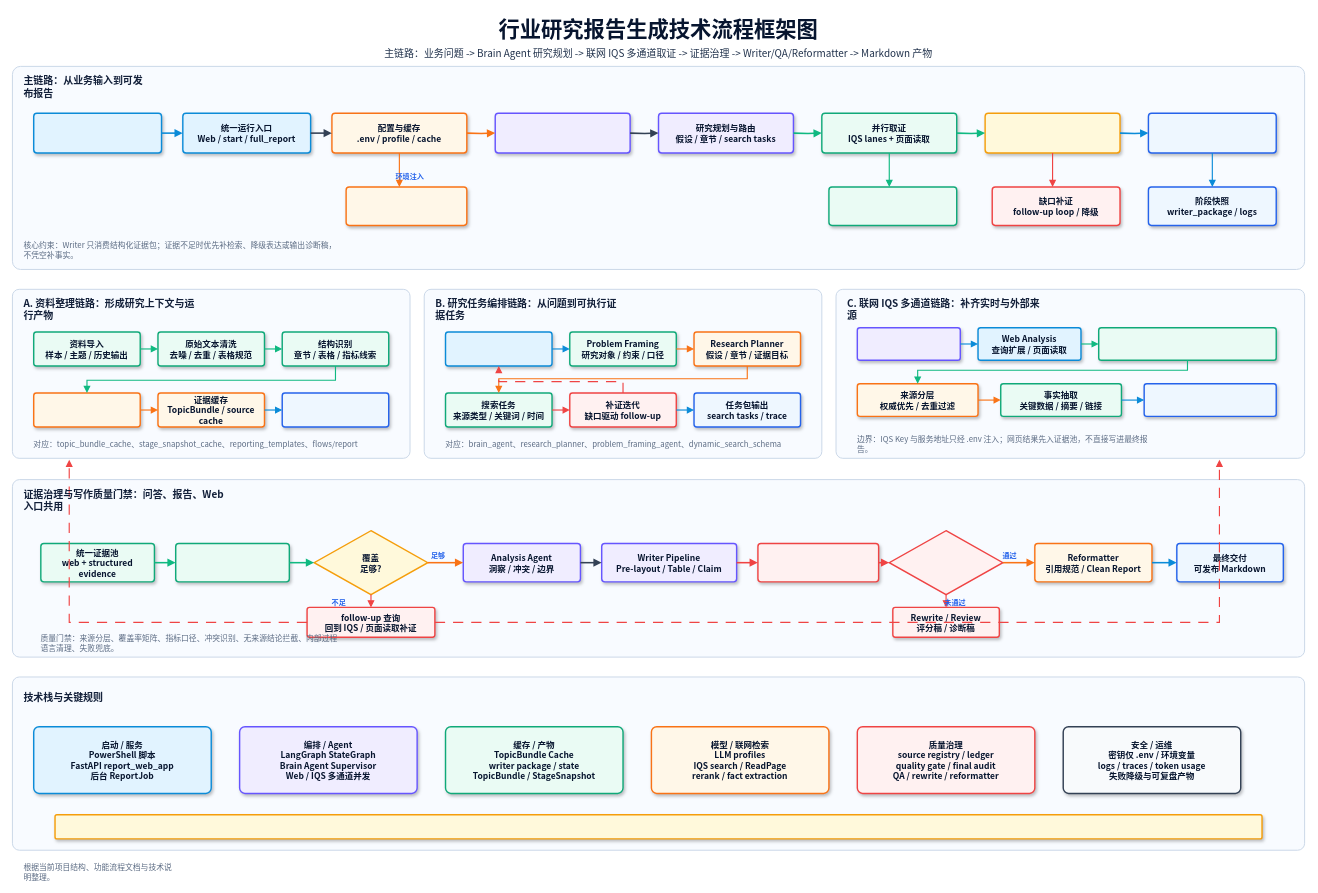
Some shapes in this 1318 by 893 pixel diagram are drawn without their labels. Each missing label, with the centre of its shape:
6 个 IQS lane 官方 / 公司 / 市场 / 新闻 / 技术 / 案例: the point at 1188,345
Brain Agent 主图 LangGraph Supervisor: the point at 563,133
Evidence Binder 章节 / 假设 / 来源绑定: the point at 233,563
Public Sanitizer 清理内部标签: the point at 818,563
QA 通过?: the point at 945,562
Query Plan 上下文改写 / 关键词: the point at 499,349
中间产物 state / package / snapshots: the point at 335,410
任务上下文 对象 / 行业 / 输出约束: the point at 87,410
报告产物输出 clean.md / state / trace: the point at 1213,133
搜索任务 章节 / 假设 / 证据目标: the point at 909,345
核心规则：联网 IQS 负责实时补证；所有证据必须先标准化进入证据池，报告输出前必须经过 QA、引用规范化和公开表达清理。: the point at 659,827
用户 / 业务方 问题或报告主题: the point at 98,133
统一配置 模型 / IQS / QA / 输出: the point at 406,207
联网证据项 title / url / date / source grade: the point at 1210,401
证据治理闭环 标准化 / 覆盖率 / 补证: the point at 1053,133
证据通道 IQS + ReadPage: the point at 893,207
